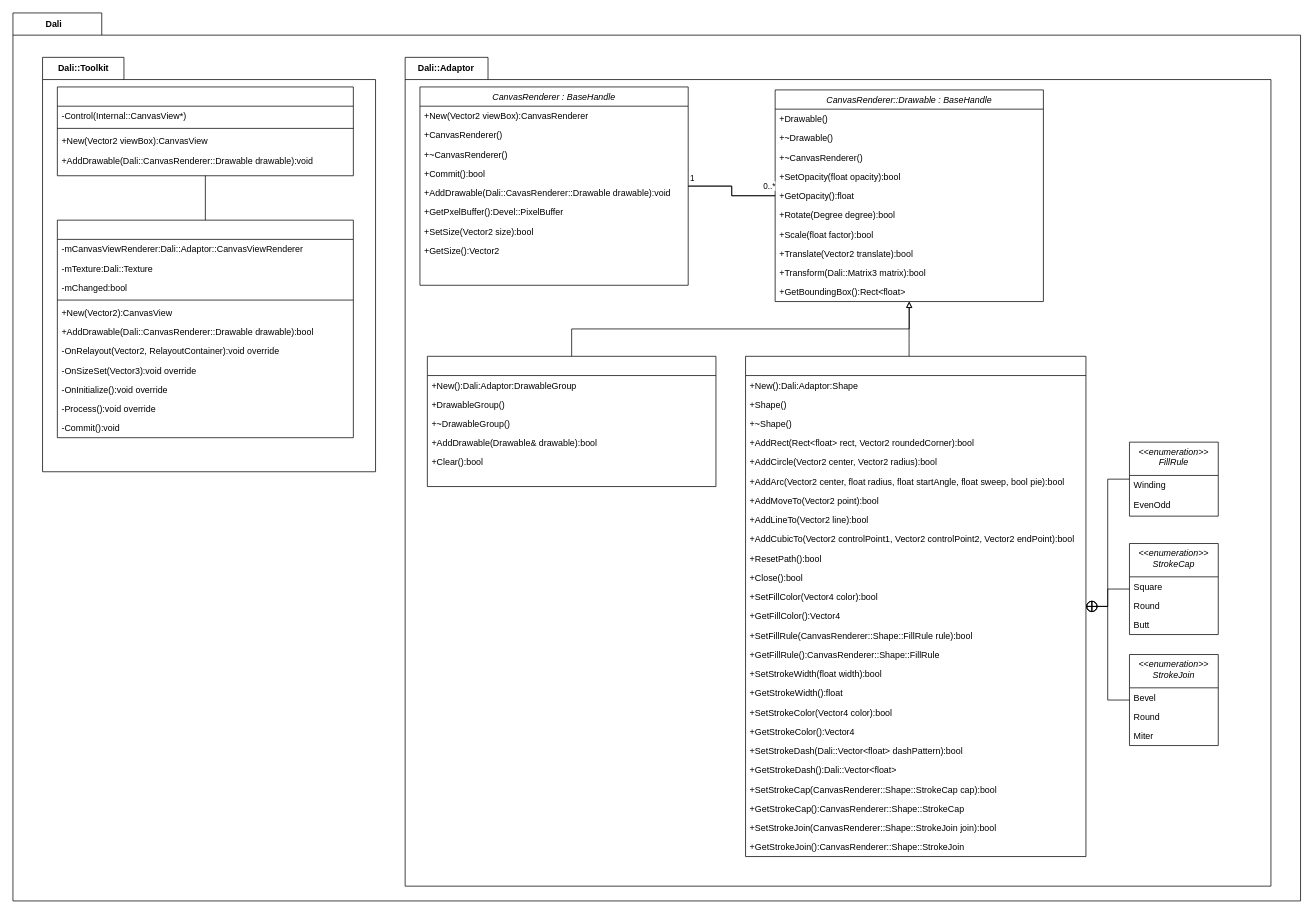
This 1314x914 diagram has some shape labels left out. Here are the shapes that lost their labels. From the top down, the box of each, then its label:
(57, 86, 353, 176): CanvasView : Control
(57, 219, 353, 438): Internal::CanvasView : BaseHandle, Integration::Processor
(427, 356, 716, 487): CanvasRenderer::DrawableGroup : CanvasRnederer::Drawable
(745, 356, 1086, 857): CanvasRenderer::Shape : CanvasRnederer::Drawable
